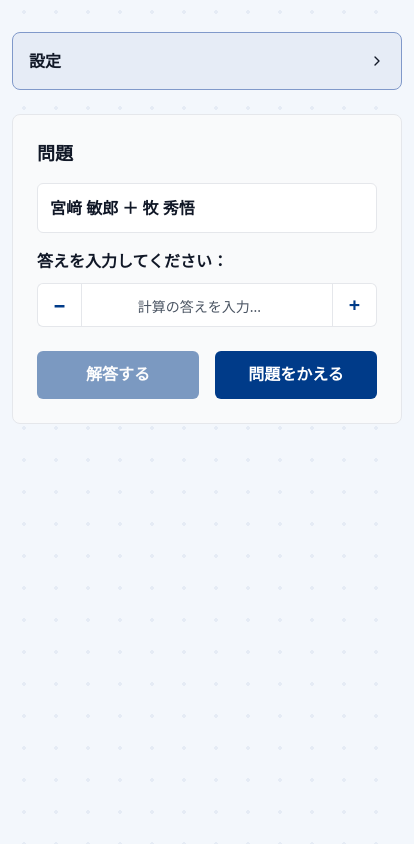
Scenario: Question Component › shows result when answer is submitted
This screenshot has width=414, height=844.
Step 1. Type "42" into the number field with test id "number-input" → (207, 305), box [81, 283, 333, 327]
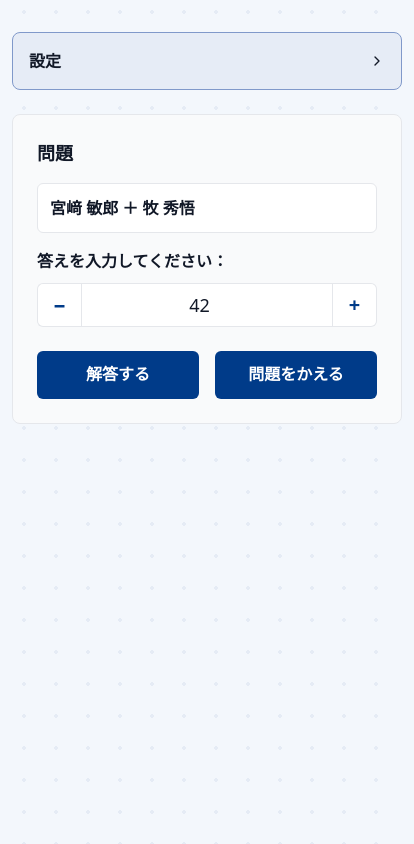
Step 2. Click the button "解答する" → click(118, 375), box [37, 351, 199, 399]
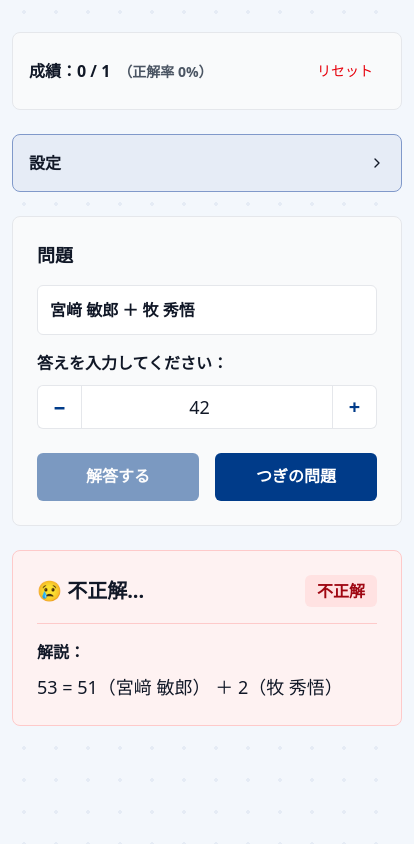
expect the text "😢 不正解..." is shown: met, box [37, 577, 144, 605]
